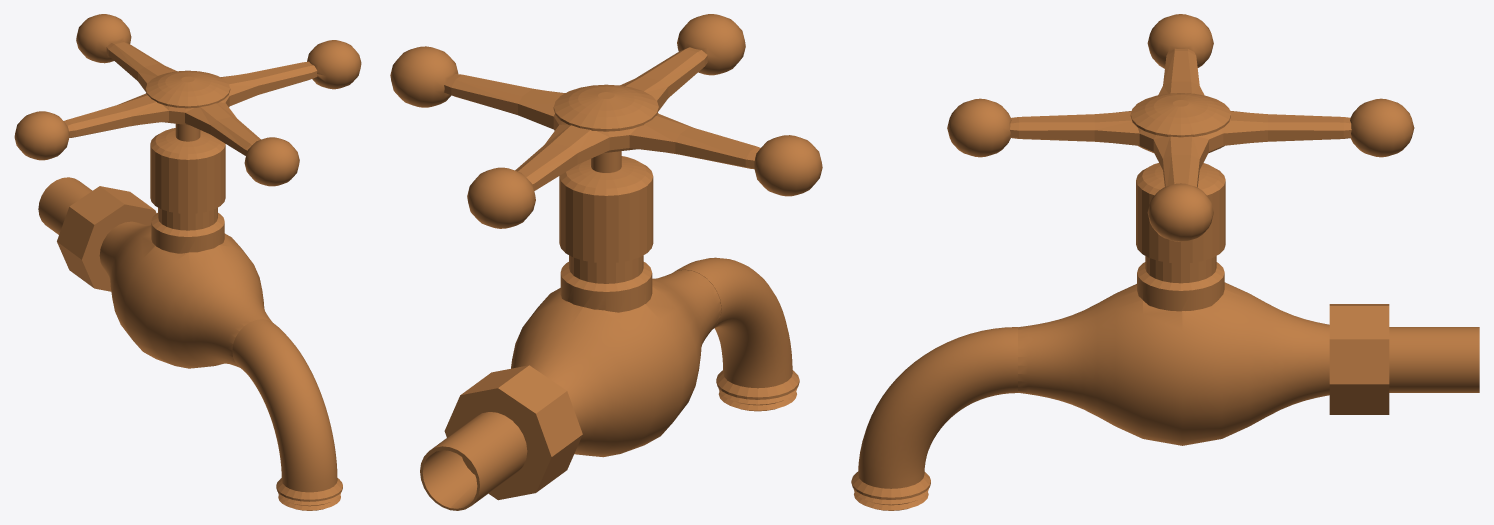
3 renders of one model, left to right at view 1: azimuth 30°, elevation 25°; view 2: azimuth 150°, elevation 25°; view 3: azimuth 270°, elevation 25°, orthographic. The views are drawn at different scales.
Parts seen in each view (by area): view 1: robinet, molette, ecrou; view 2: robinet, molette, ecrou; view 3: robinet, molette, ecrou.
Boxes of the visible parts, bbox=[...] form: robinet: bbox=[38, 128, 342, 510]; molette: bbox=[14, 14, 361, 186]; ecrou: bbox=[57, 186, 156, 291]; robinet: bbox=[420, 156, 799, 510]; molette: bbox=[390, 14, 822, 228]; ecrou: bbox=[444, 365, 582, 500]; robinet: bbox=[851, 163, 1479, 510]; molette: bbox=[947, 14, 1414, 241]; ecrou: bbox=[1329, 304, 1389, 414].
Size of the model in its own units: 704 by 658 by 947.
